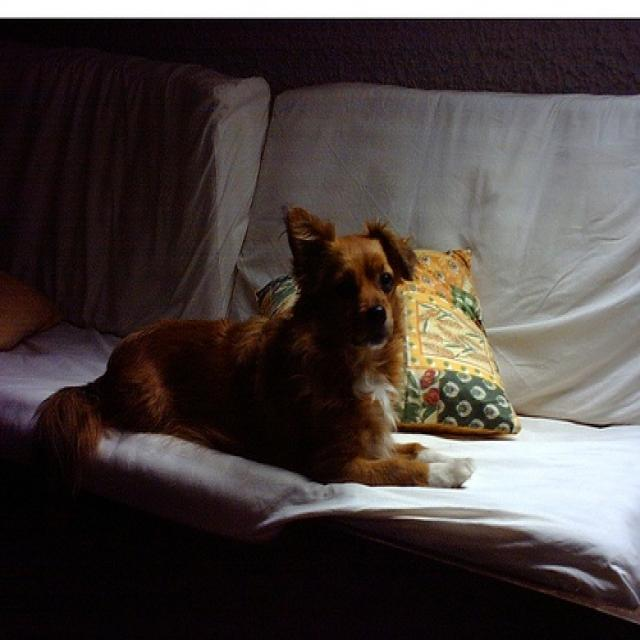dog: (29, 204, 473, 499)
